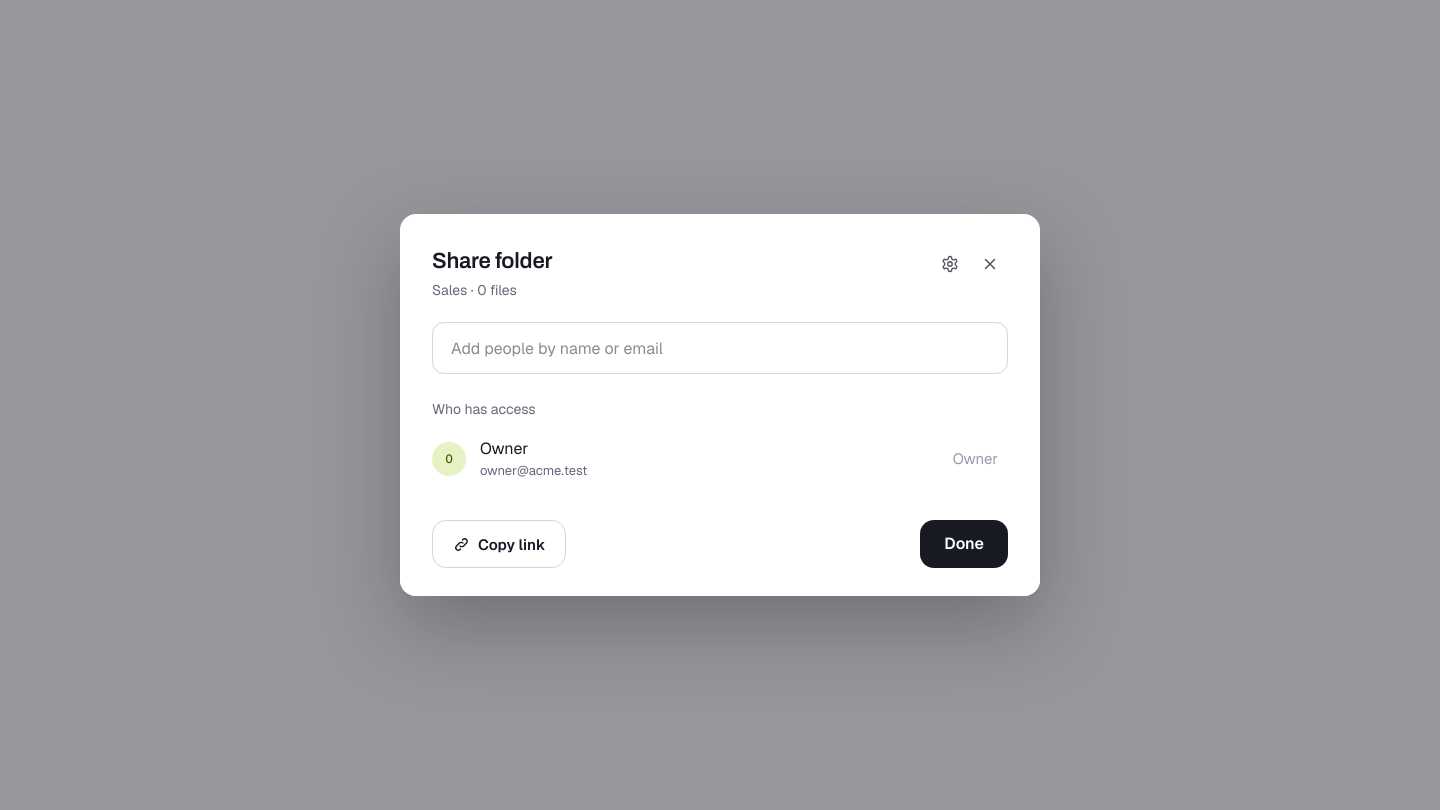
ProjectShareDialog with Groups › offers a Group above the people and shares the Project to it by id
What coordinates should you click on to do the following:
click the field labelled "Add people by name or email"
I would click on:
 (720, 348)
Its box is [432,322,1008,374].
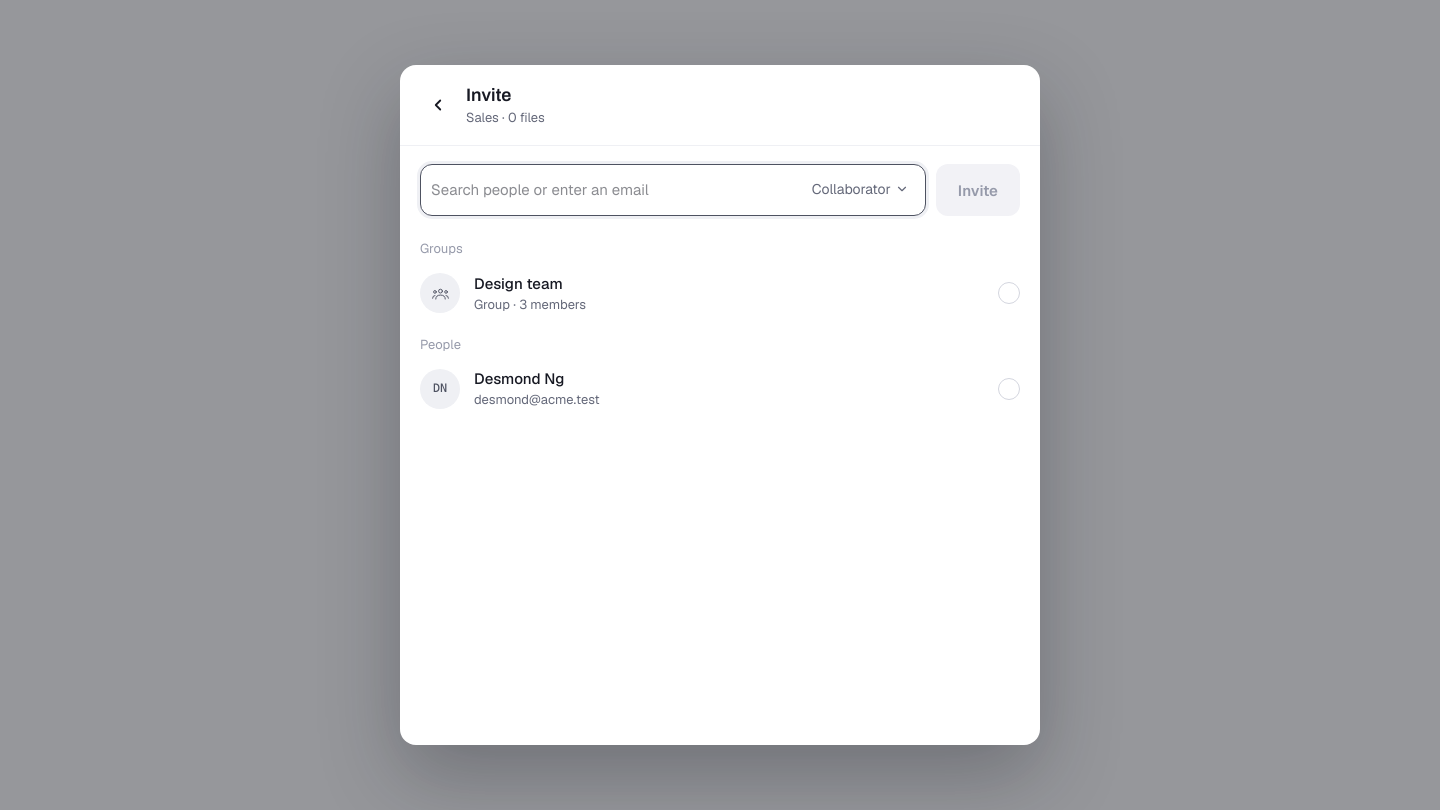
What coordinates should you click on to do the following:
click the checkbox labelled "Design team Group · 3 members"
I would click on:
 (440, 293)
Its box is [408,263,1032,324].
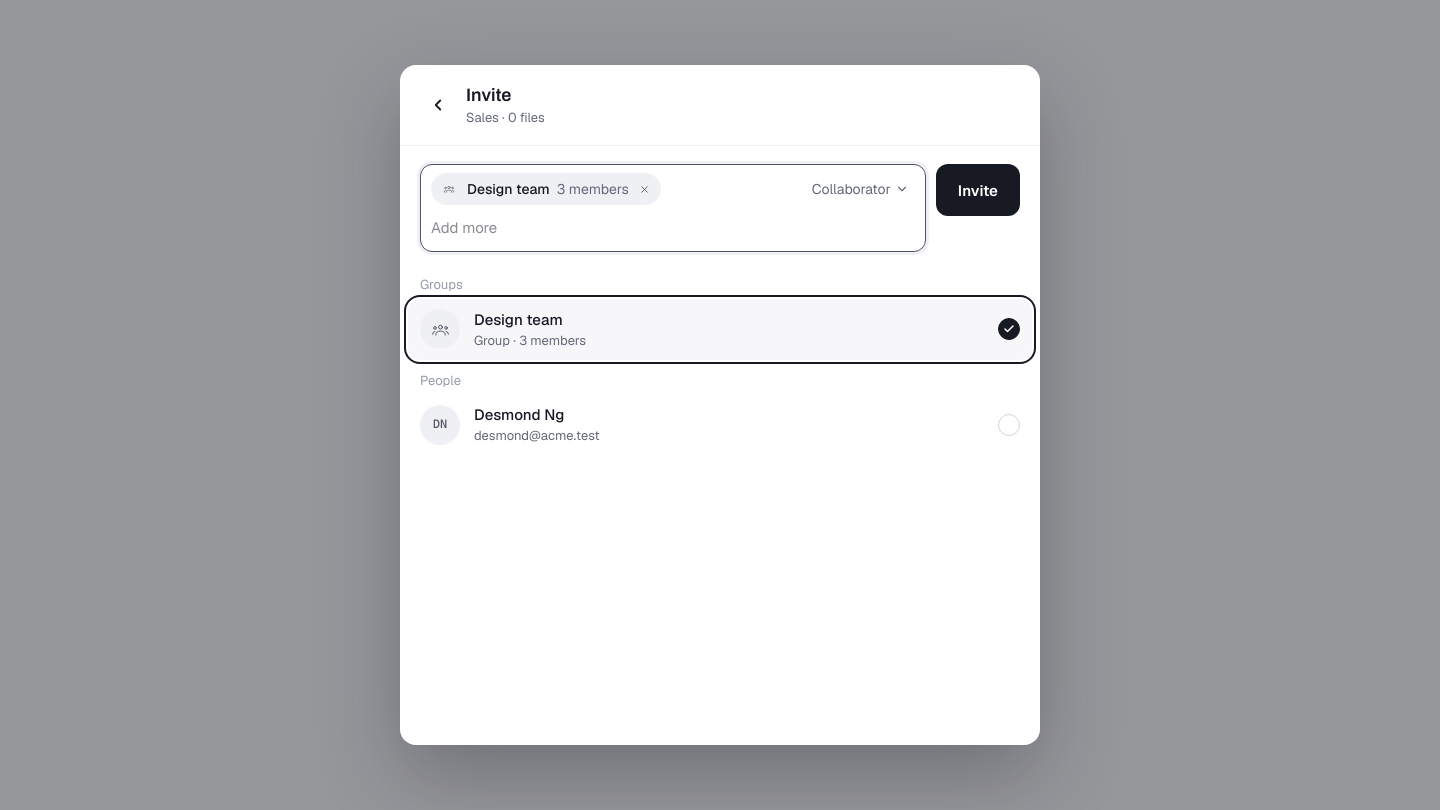
What coordinates should you click on to do the following:
click the button "Invite"
I would click on:
 (978, 190)
Its box is [936,164,1020,216].
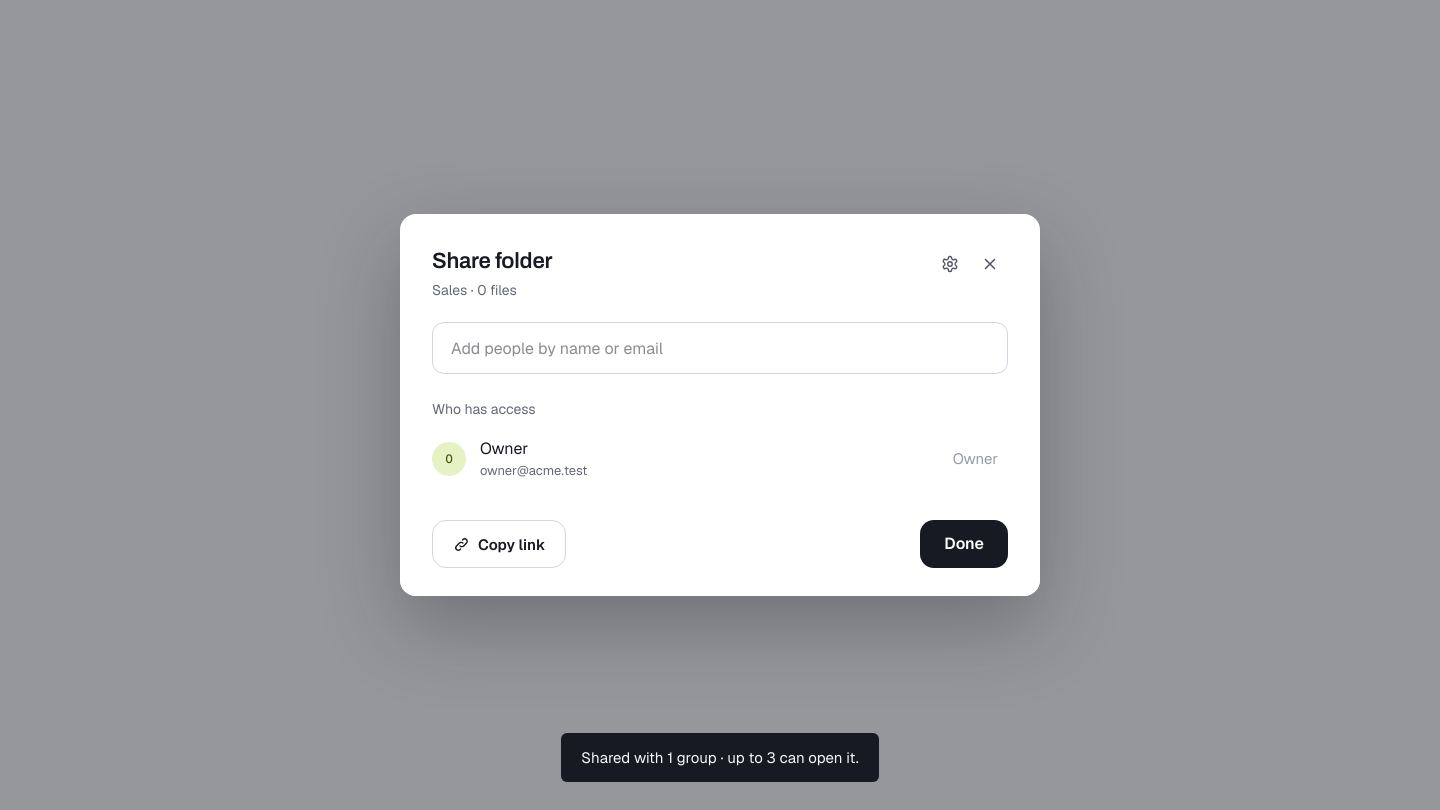
Expected: the text "Shared with 1 group · up to 3 can open it." is shown, [561,733,879,782]
